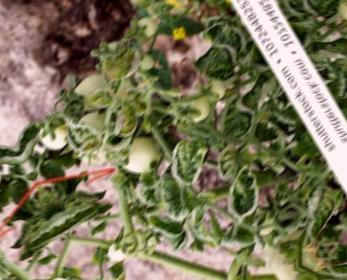Tomato leaf yellow virus: (158, 129, 221, 194), (212, 163, 272, 225), (117, 154, 173, 214), (96, 37, 154, 87), (145, 170, 191, 225), (209, 143, 254, 190)
